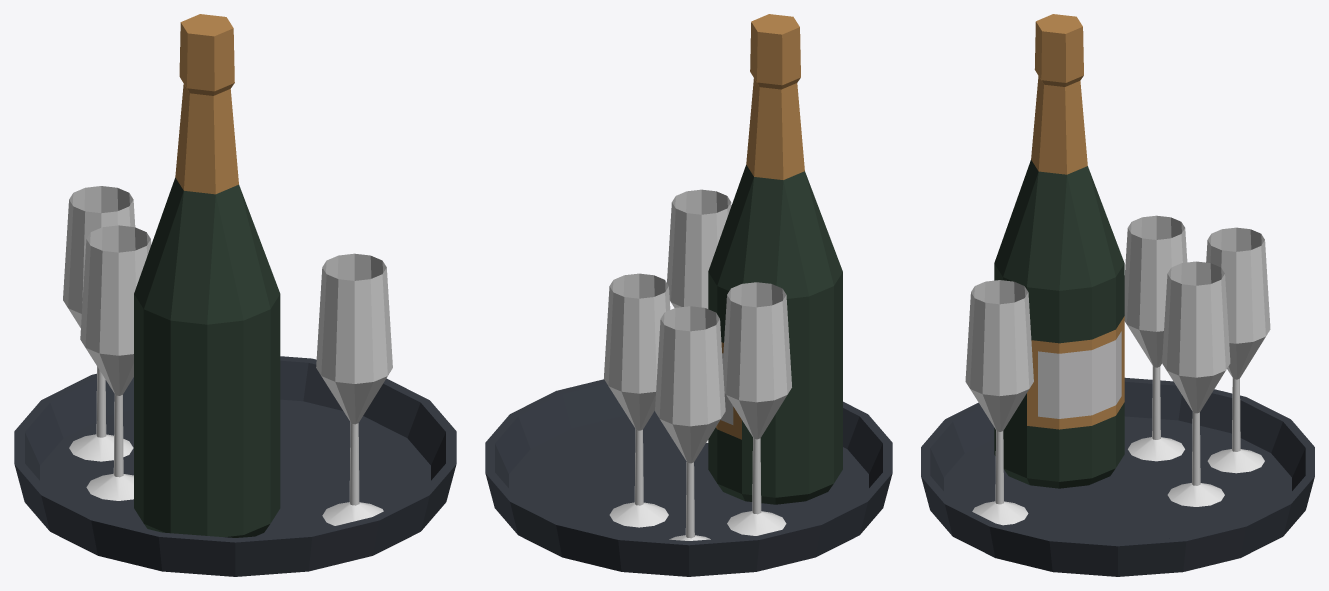
File: SM_champagneSet.glb
3 views of the same model, side by side, from view 1: azimuth 30°, elevation 25°; view 2: azimuth 150°, elevation 25°; view 3: azimuth 270°, elevation 25° (orthographic). The views are drawn at different scales.
Parts seen in each view (by area): view 1: SM_champagneSet; view 2: SM_champagneSet; view 3: SM_champagneSet.
Boxes of the visible parts, x1=… form: SM_champagneSet: x1=14, y1=14, x2=456, y2=576; SM_champagneSet: x1=485, y1=14, x2=892, y2=576; SM_champagneSet: x1=921, y1=14, x2=1314, y2=576.
Bounding box in the file's own units: 0.5242 × 0.6446 × 0.5162.
1 material, 1 textured.
